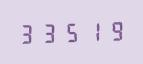five: (60, 20, 80, 43)
nine: (102, 18, 122, 42)
one: (81, 19, 101, 42)
three: (18, 21, 38, 45), (39, 21, 59, 44)
